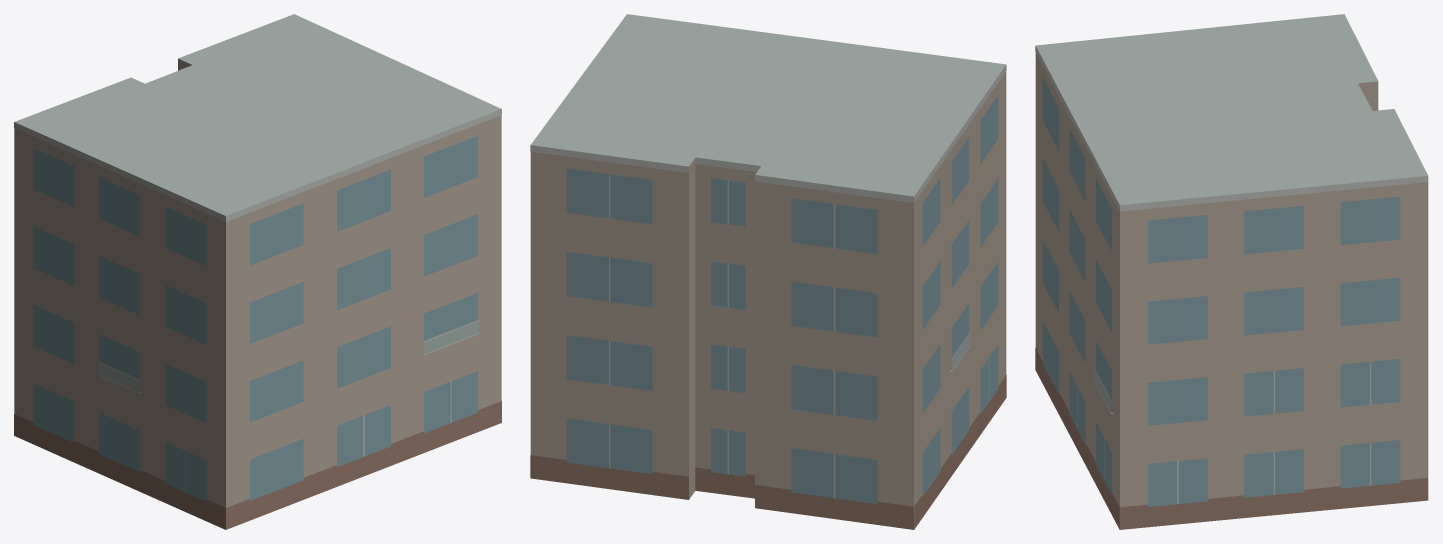
The model's file is survey-upis-32798960.glb.
3 renders of one model, left to right at view 1: azimuth 30°, elevation 25°; view 2: azimuth 150°, elevation 25°; view 3: azimuth 270°, elevation 25°, orthographic. The views are drawn at different scales.
Visible parts, largest first — view 1: survey-upis-32798960.tmp; view 2: survey-upis-32798960.tmp; view 3: survey-upis-32798960.tmp.
Boxes of the visible parts, x1,y1,x2,y2 form: survey-upis-32798960.tmp: (14, 14, 501, 529); survey-upis-32798960.tmp: (530, 14, 1006, 529); survey-upis-32798960.tmp: (1035, 14, 1428, 529).
Size of the model in its own units: 15.93 by 12.6 by 13.83.
